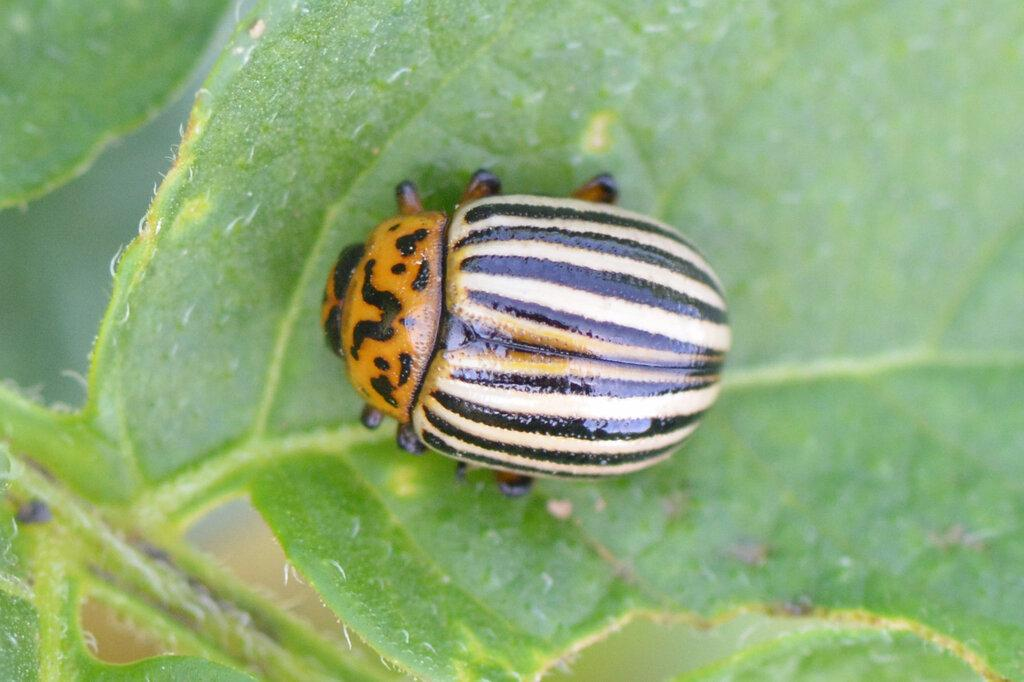potato_beetle: (280, 121, 785, 565)
